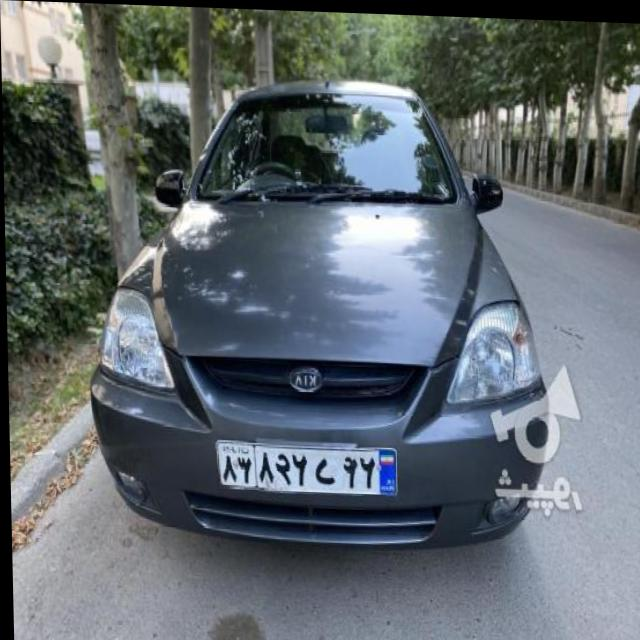licence: (217, 439, 397, 487)
